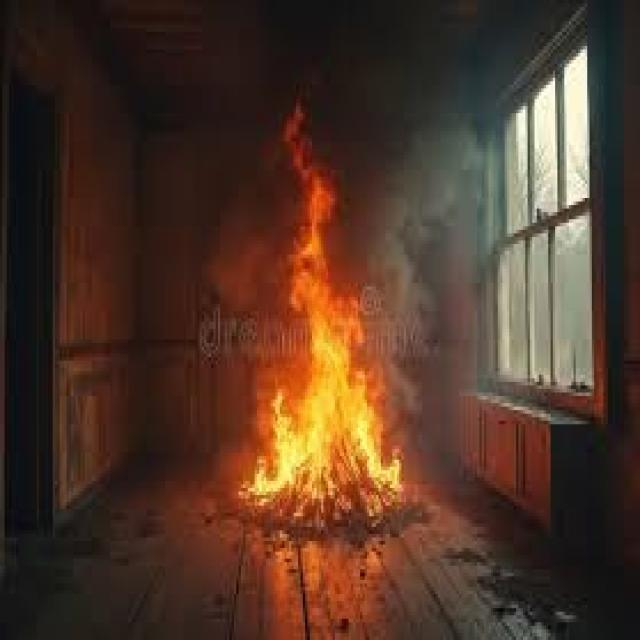fire: (338, 386, 382, 486), (299, 388, 337, 500), (267, 391, 309, 492), (282, 97, 330, 179), (293, 178, 335, 271), (310, 330, 351, 391), (324, 297, 365, 351), (288, 270, 331, 310), (368, 459, 402, 506), (238, 457, 267, 507)
